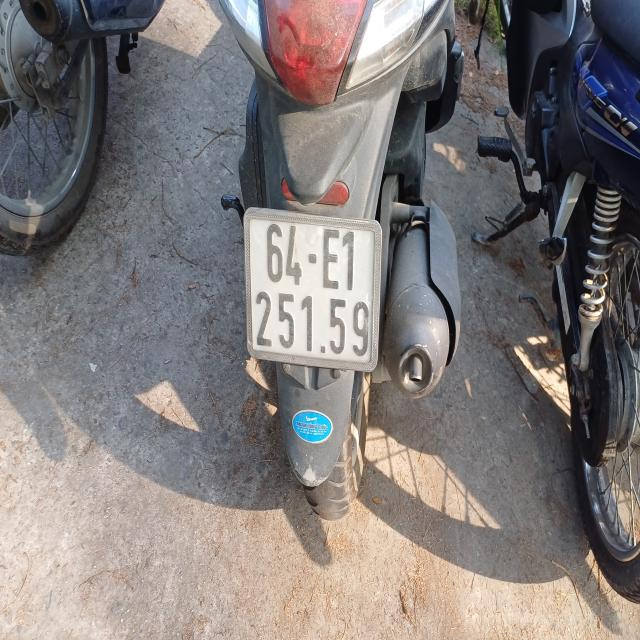1: (341, 229, 358, 293), (300, 291, 314, 355)
2: (254, 289, 274, 351)
4: (286, 222, 303, 288)
5: (277, 289, 296, 349), (328, 294, 346, 354)
6: (264, 222, 285, 284)
9: (351, 296, 370, 361)
E: (321, 226, 341, 292)
